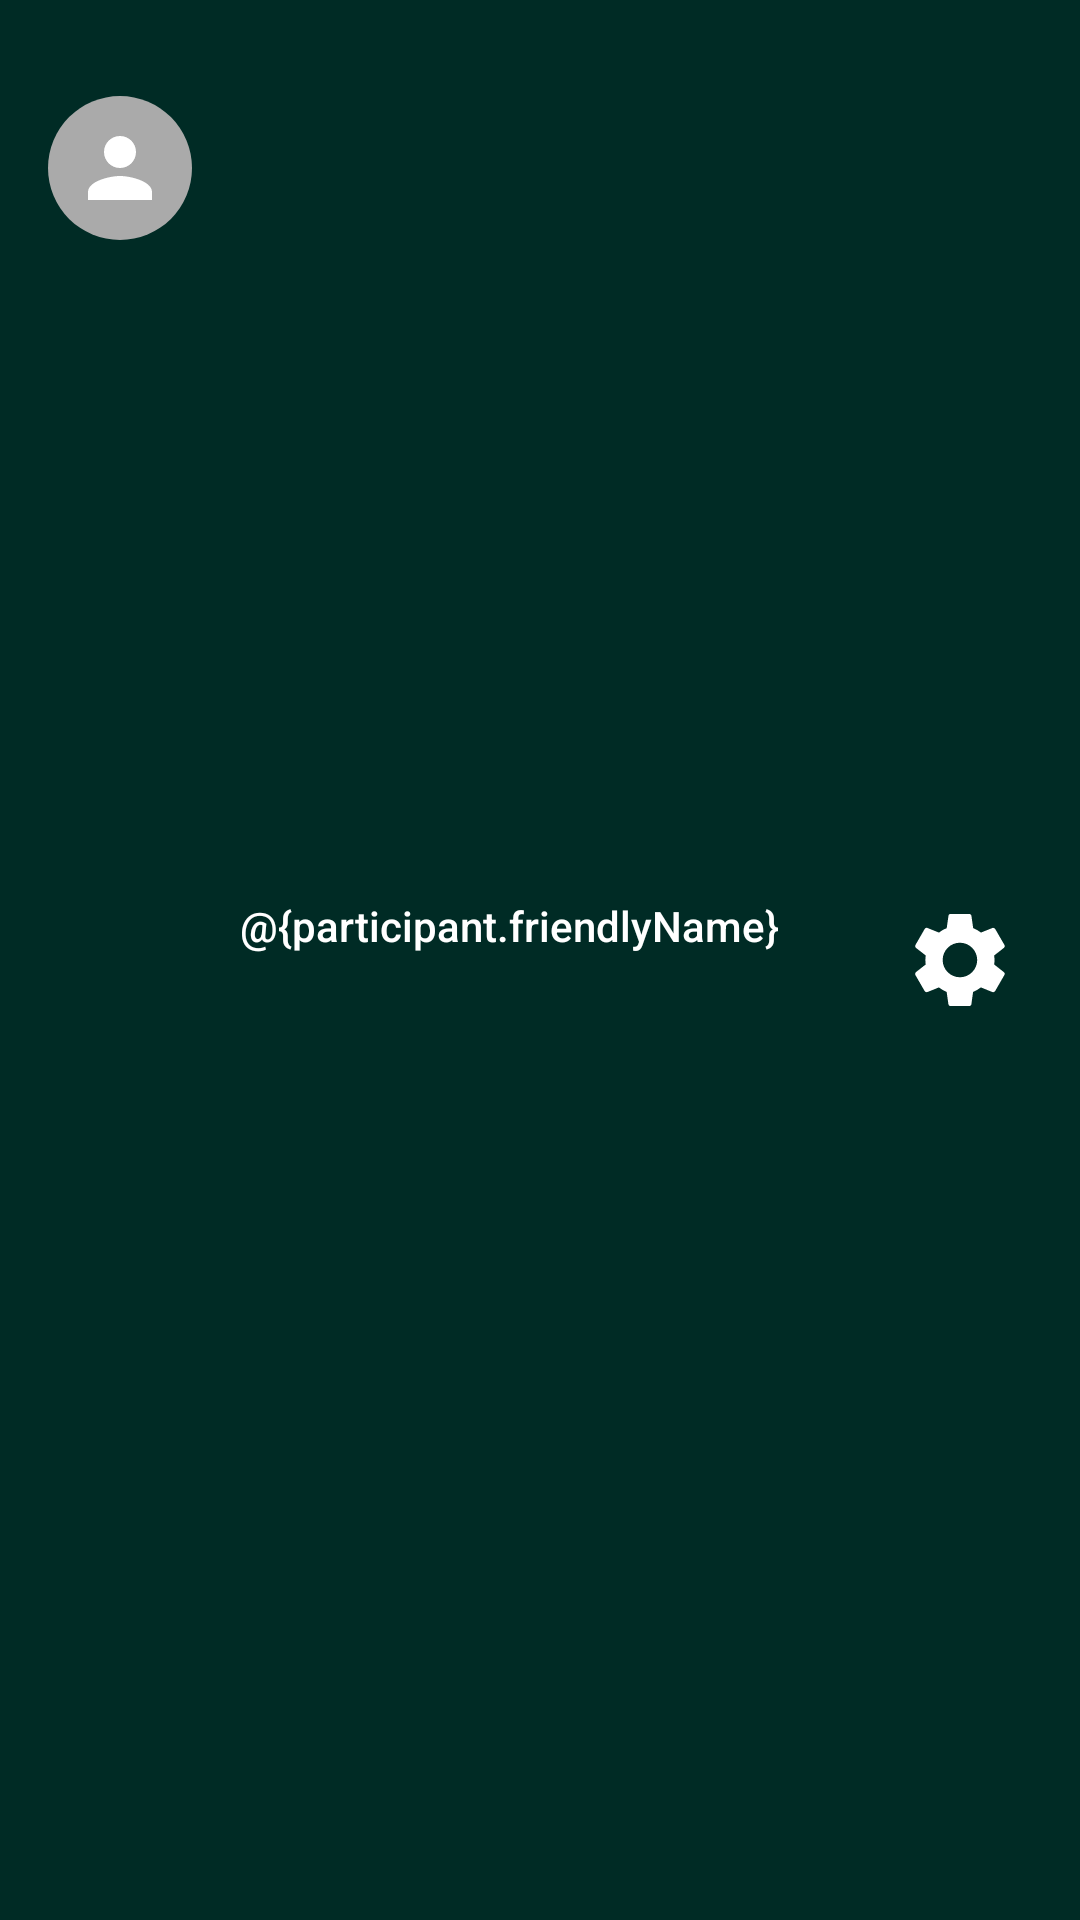

Named icons in this screenshot (1080 x 1920) and their centers, [x,y]:
participant: [120,168]
settings: [960,960]
